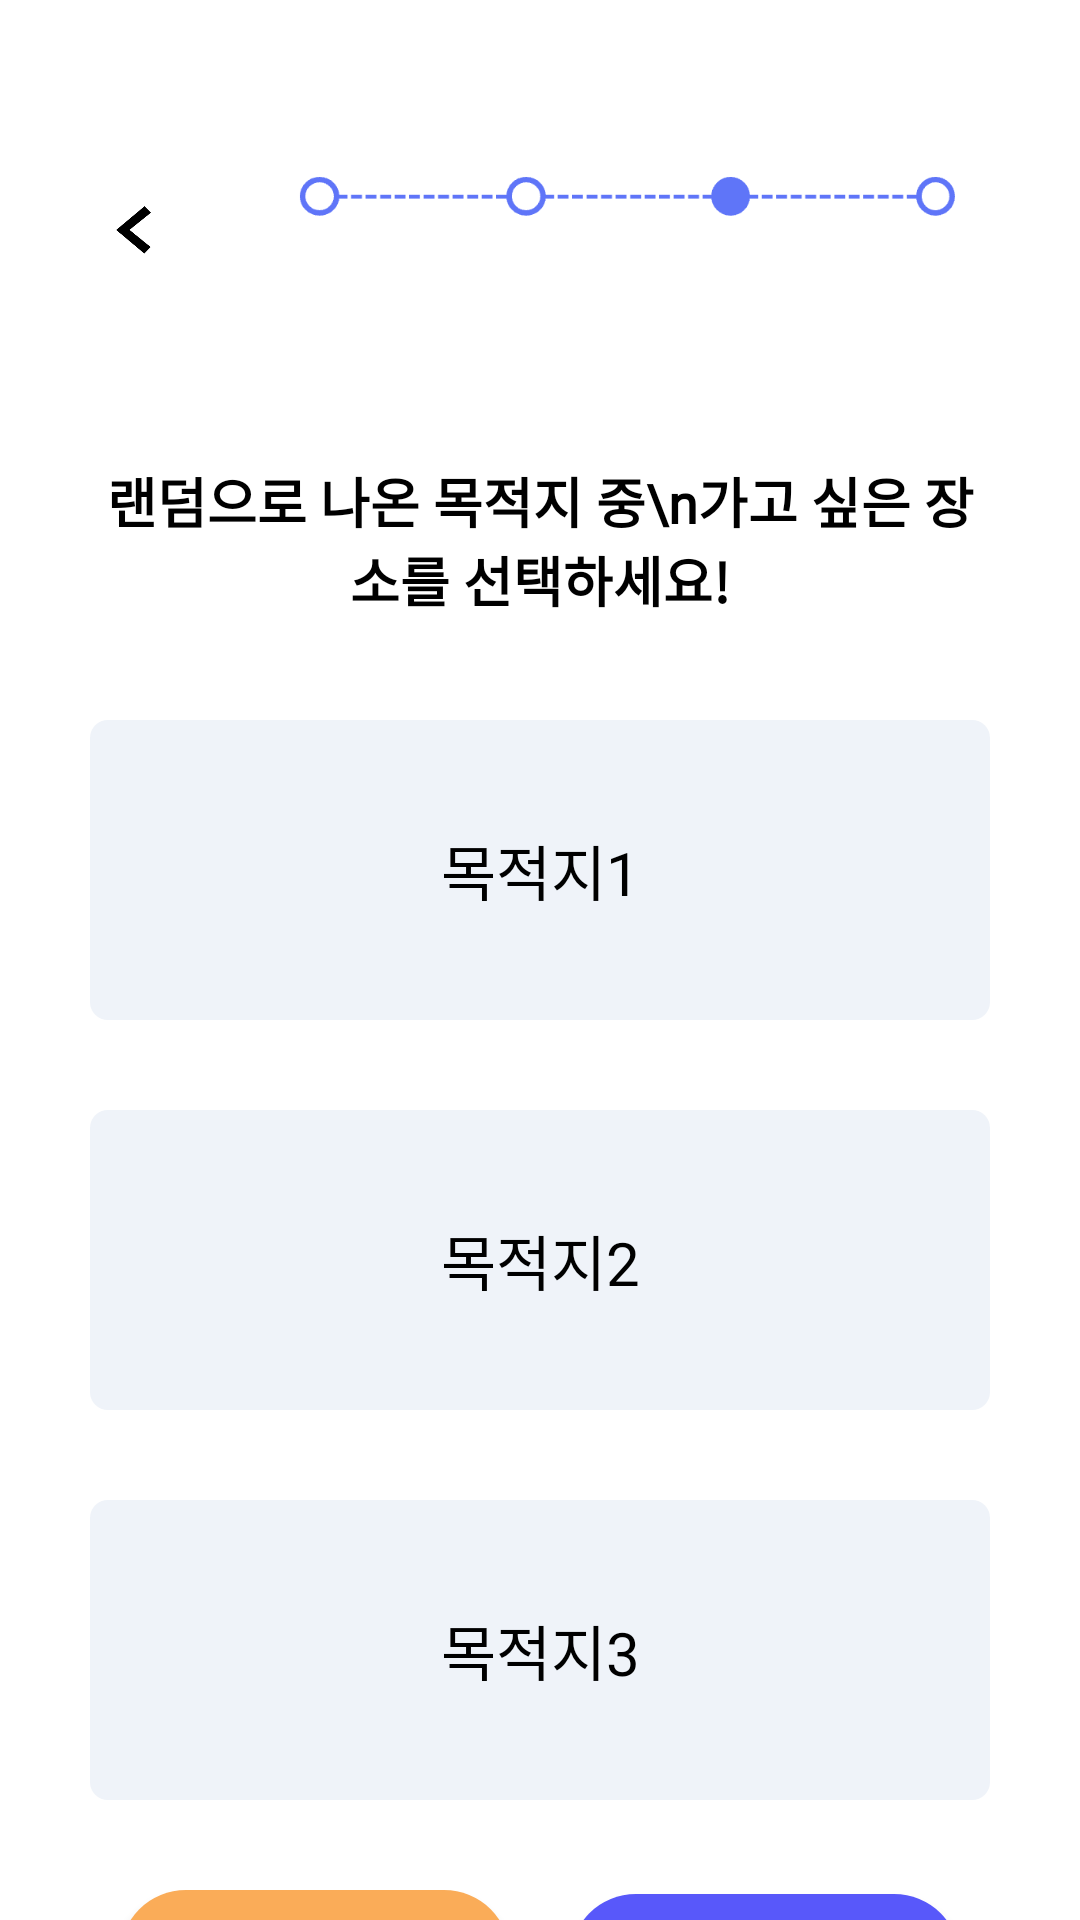

Icons on this 1080px×1920px Android screen, each with the point to tap as (x,y):
backbut: (133,230)
